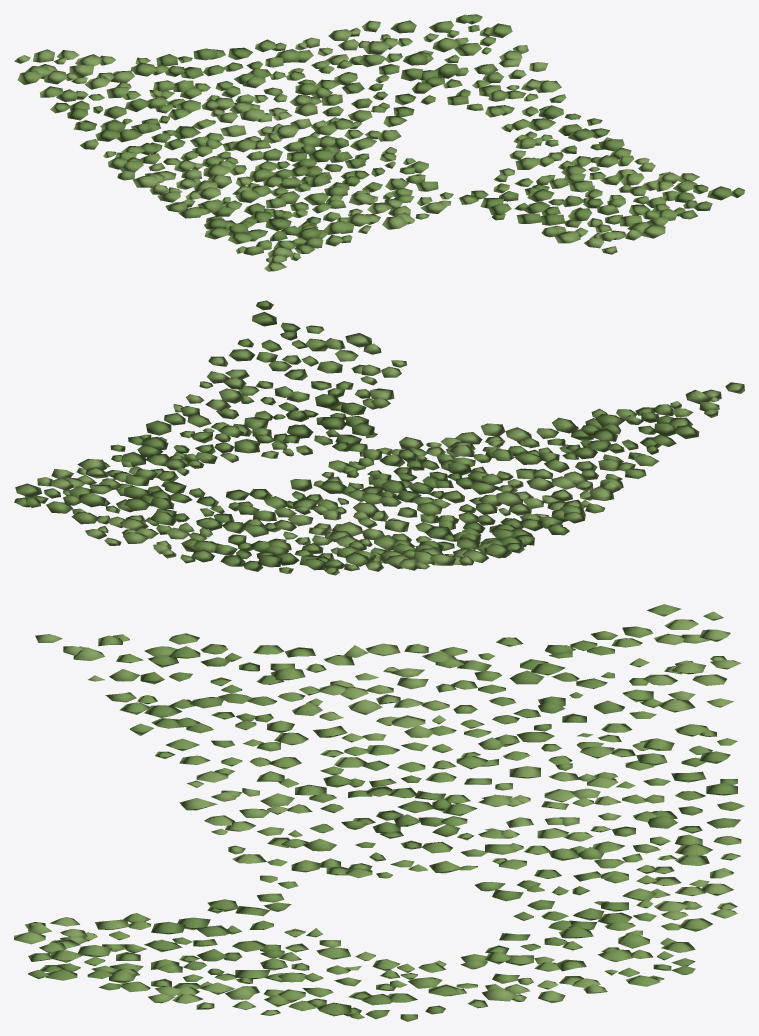
Rendered from canopy-1--5-5.glb.
3 views of the same model, one above another, from view 1: azimuth 30°, elevation 25°; view 2: azimuth 150°, elevation 25°; view 3: azimuth 270°, elevation 25° (orthographic). The views are drawn at different scales.
Bounding box in the file's own units: 515 × 100 × 520.
1 material, 1 textured.
